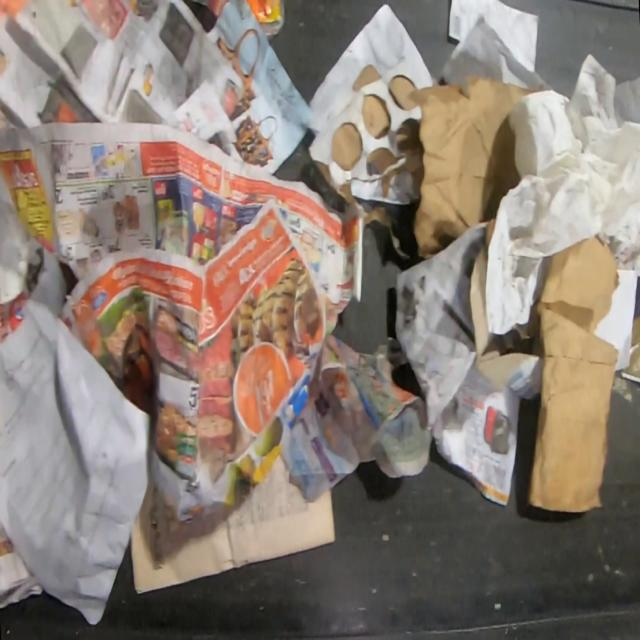cardboard: (526, 234, 620, 515), (408, 74, 542, 259), (467, 217, 543, 400), (311, 159, 359, 205), (331, 121, 362, 170), (362, 95, 390, 137), (388, 74, 418, 109), (396, 119, 421, 156), (349, 63, 382, 90), (367, 146, 397, 175)
soft_plastic: (246, 0, 286, 41)
